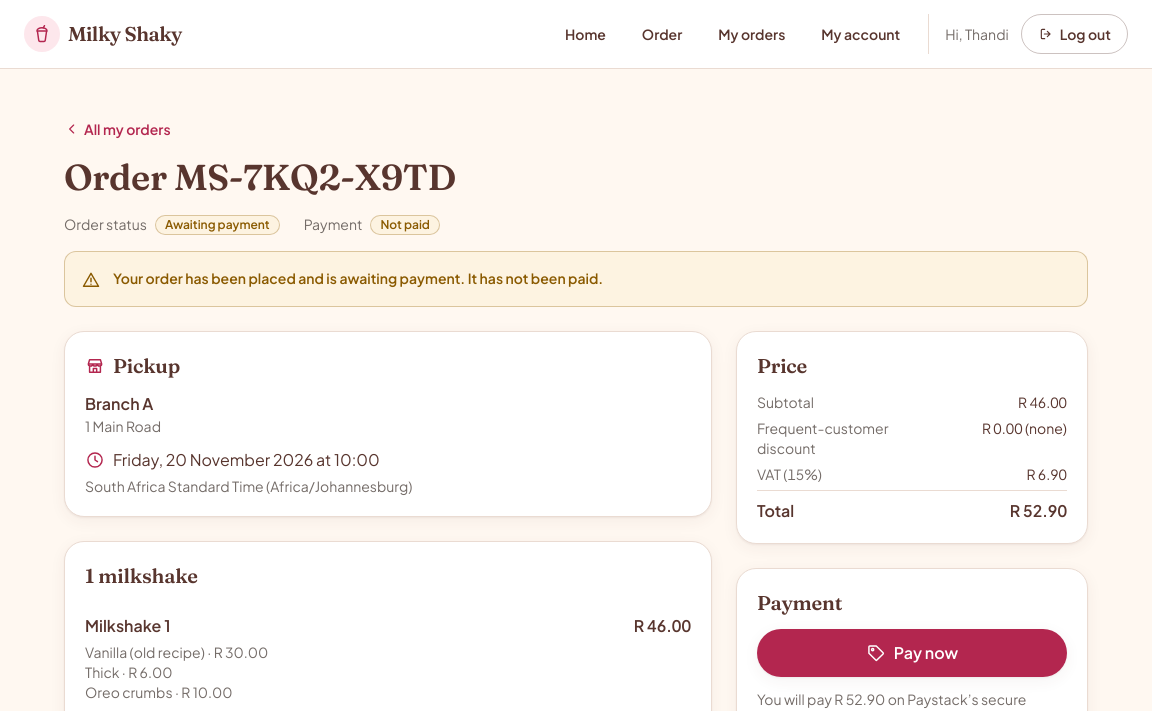
paying for an order › shows the order as stored when the server says it has already been paid
Click the button "Pay now" at [912, 653], box 757,629 -> 1067,677
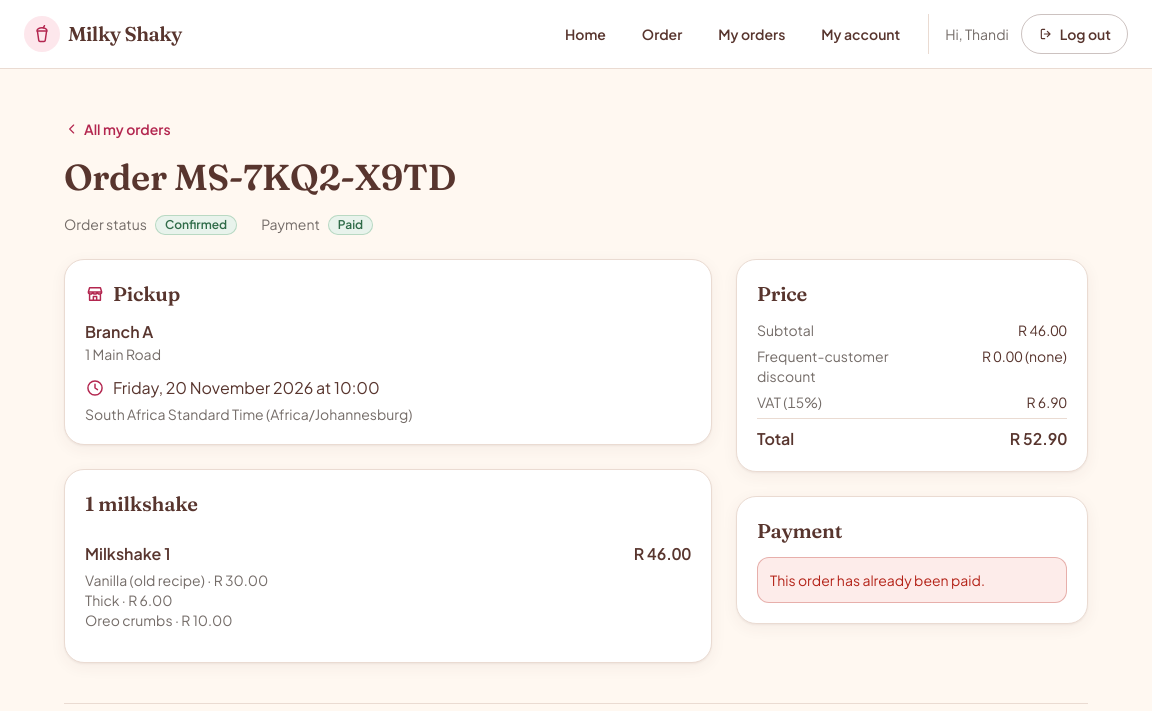
Check: the text "Paid" is shown, box 328,215 -> 373,235
Check: the message reads "This order has already been paid.", box 770,571 -> 985,589
Check: the button "Pay now" is gone
